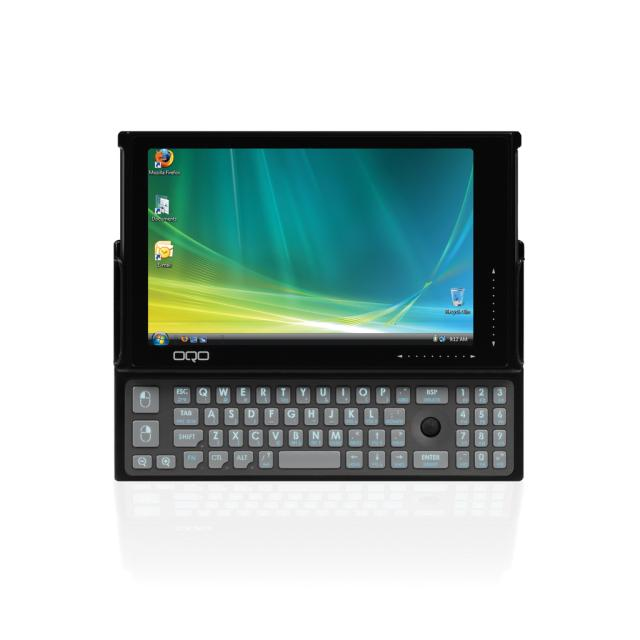Mobile-phone: (112, 130, 524, 482)
